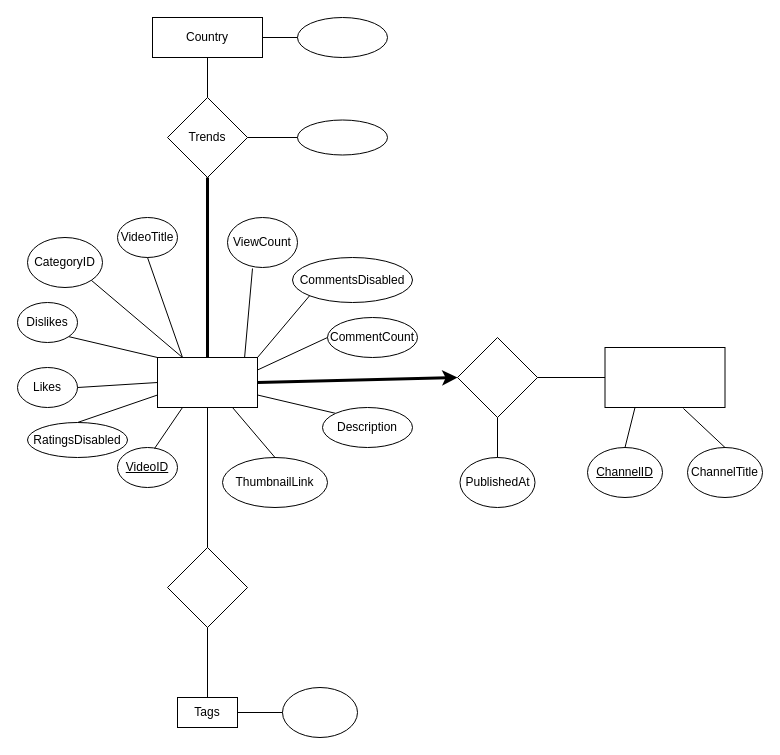
This 780x755 diagram has some shape labels left out. The shapes that lost their labels are listed below. From the top down, each one's box as (x1, y1, x2, y2) in pixels, then its label:
(296, 16, 388, 58): CountryCode
(296, 119, 388, 155): TrendingDate
(156, 356, 258, 408): Video
(456, 336, 538, 418): Published
(604, 346, 725, 408): Channel
(166, 546, 248, 628): Has
(282, 686, 358, 738): TagName
